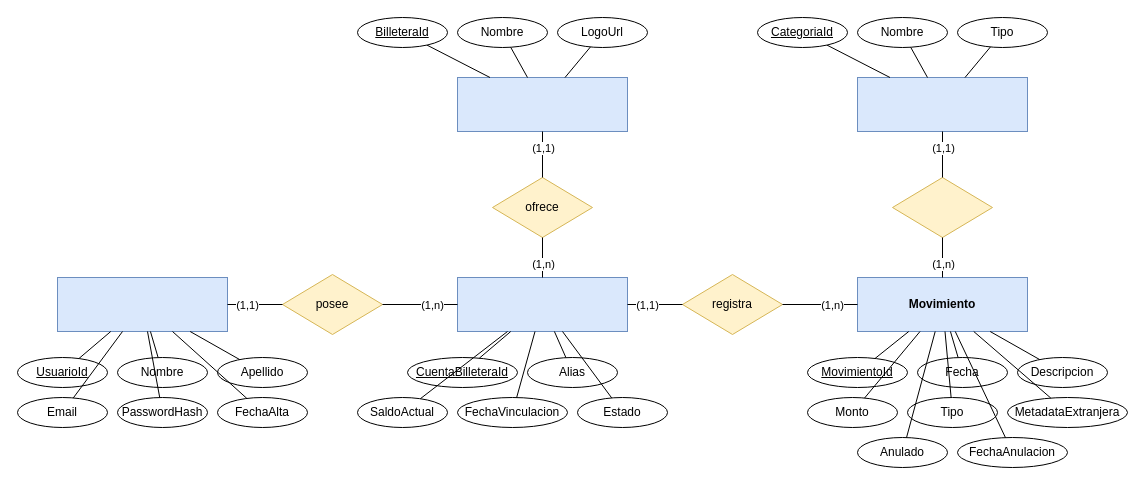
Some shapes in this 1145 by 485 pixel diagram are drawn without their labels. Each missing label, with the centre of its shape:
"Billetera" goes at point 542,104.
"Categoria" goes at point 942,104.
"clasifica" goes at point 942,207.
"CuentaBilletera" goes at point 542,304.
"Usuario" goes at point 142,304.
